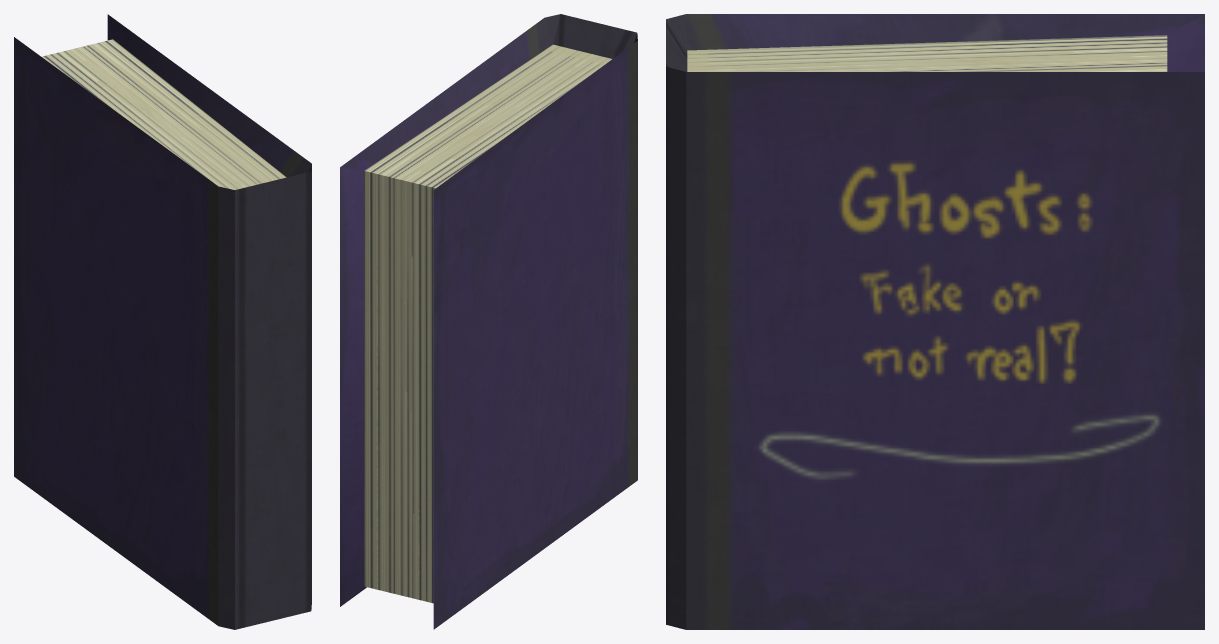
File: e_asset_book_ghosts.fbx
3 views of the same model, side by side, from view 1: azimuth 30°, elevation 25°; view 2: azimuth 150°, elevation 25°; view 3: azimuth 270°, elevation 25° (orthographic). The views are drawn at different scales.
Visible parts, largest first — view 1: pCube124; view 2: pCube124; view 3: pCube124.
Part boxes in pixels (x1,y1,x2,y2): pCube124: [14, 14, 311, 629]; pCube124: [340, 14, 637, 629]; pCube124: [666, 14, 1204, 629].
Bounding box in the file's own units: 0.0368 × 0.1653 × 0.1446.
